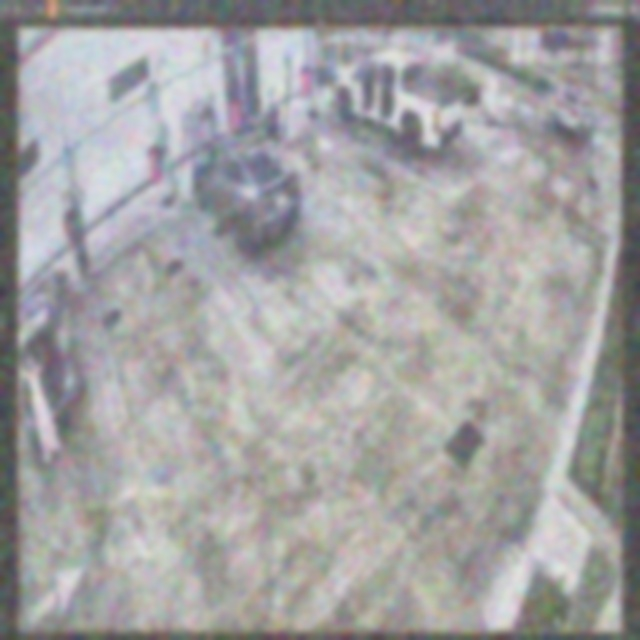Car: (192, 111, 301, 256), (335, 49, 462, 154)
